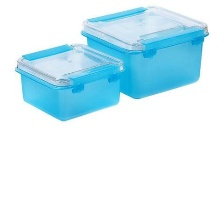plastic_box: (73, 0, 214, 103), (10, 37, 128, 126)
